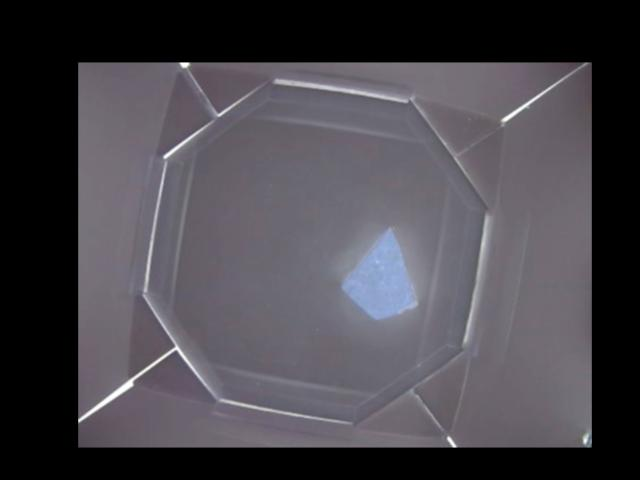China: (343, 229, 420, 319)
